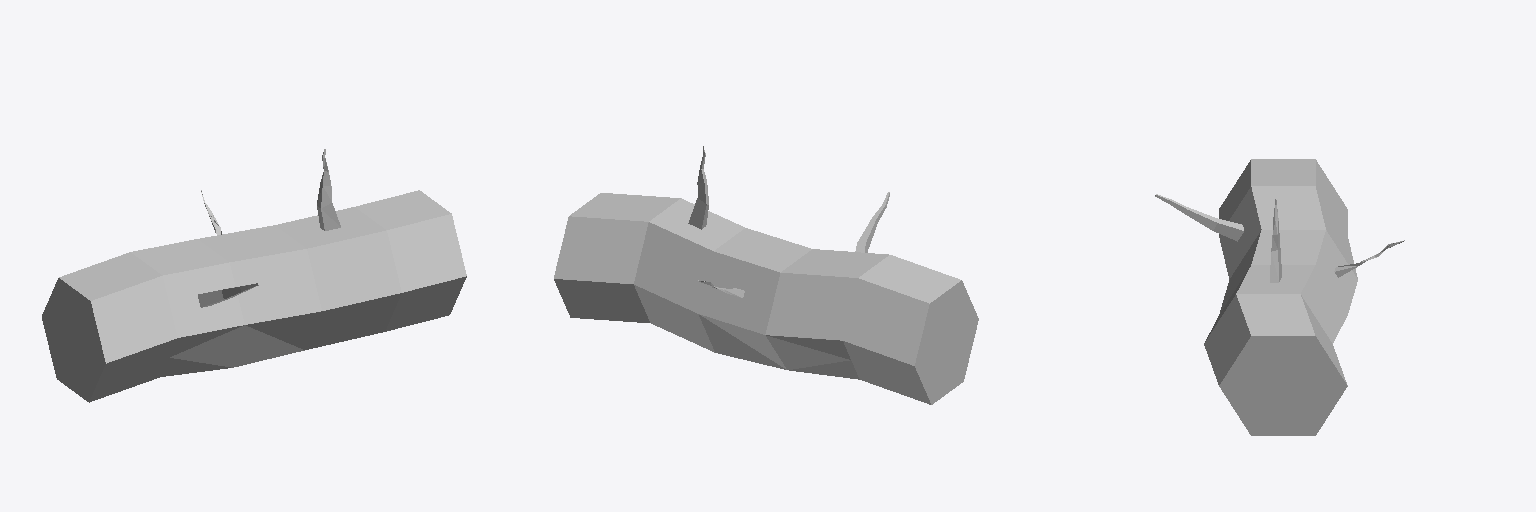
File: log1.obj
3 views of the same model, side by side, from view 1: azimuth 30°, elevation 25°; view 2: azimuth 150°, elevation 25°; view 3: azimuth 270°, elevation 25° (orthographic).
Parts seen in each view (by area): view 1: i_Cylinder; view 2: i_Cylinder; view 3: i_Cylinder.
Boxes of the visible parts, x1,y1,x2,y2 form: i_Cylinder: [42, 149, 466, 402]; i_Cylinder: [554, 146, 978, 404]; i_Cylinder: [1155, 159, 1404, 435].
Bounding box in the file's own units: 6.5 × 3.17 × 3.88.